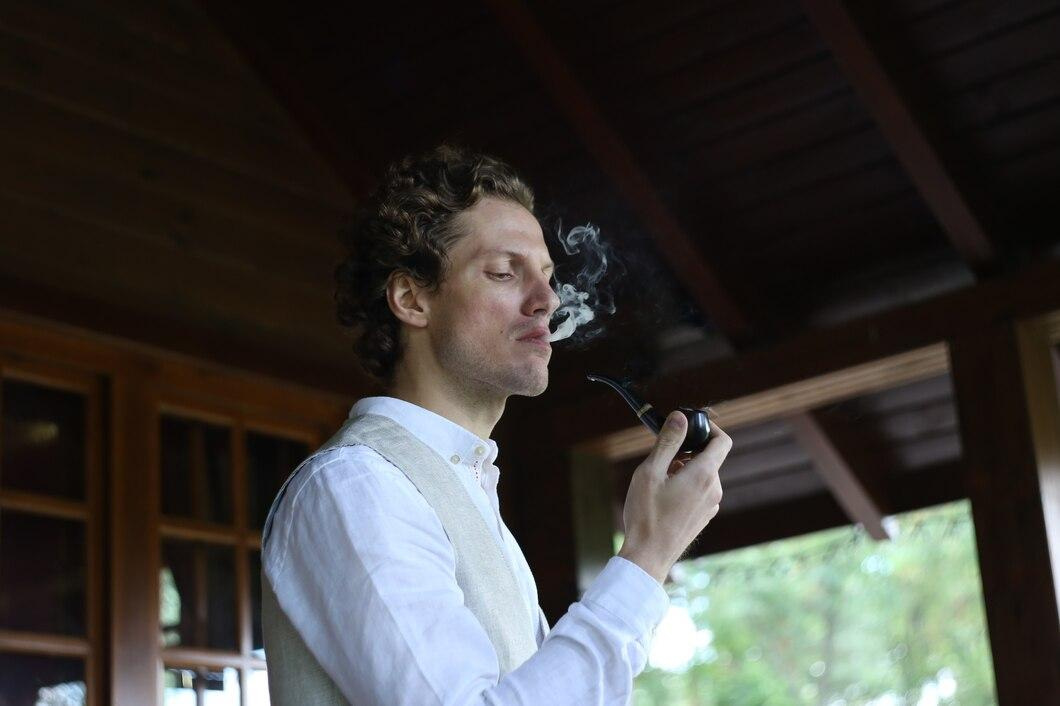trubka: (587, 374, 712, 451)
